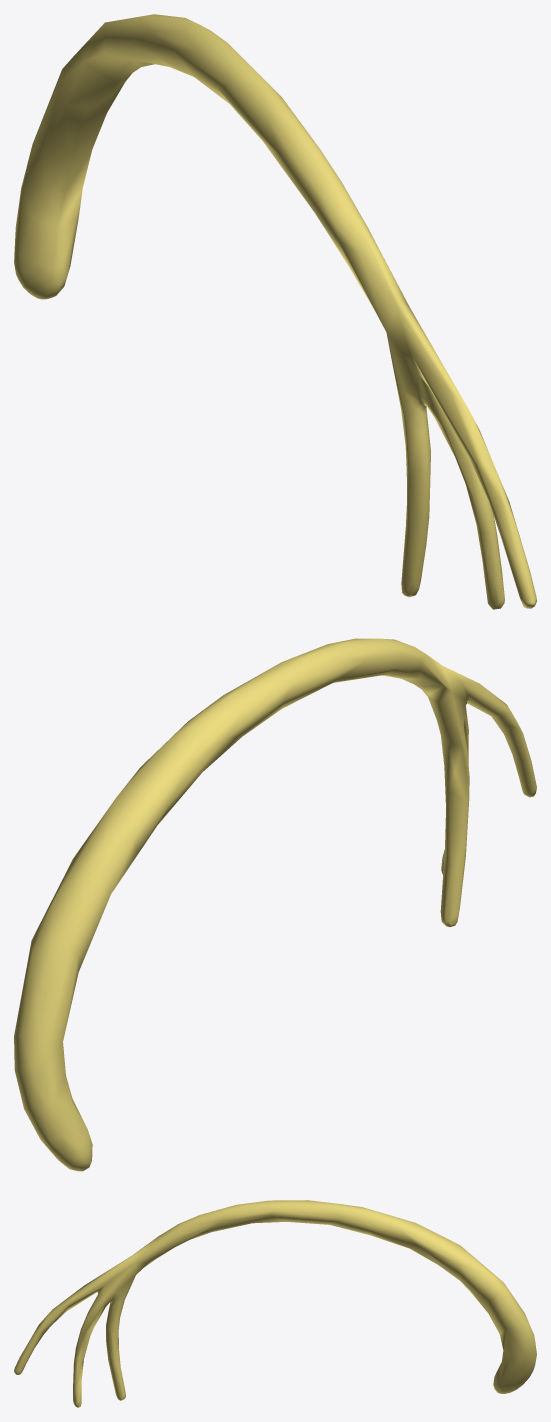
The model's file is stria-medullaris-thalami-l.glb.
3 renders of one model, top to bottom at view 1: azimuth 30°, elevation 25°; view 2: azimuth 150°, elevation 25°; view 3: azimuth 270°, elevation 25°, orthographic. The views are drawn at different scales.
Visible parts, largest first — view 1: Stria medullaris thalami.l; view 2: Stria medullaris thalami.l; view 3: Stria medullaris thalami.l.
Boxes of the visible parts, x1=… form: Stria medullaris thalami.l: x1=14, y1=14, x2=536, y2=609; Stria medullaris thalami.l: x1=14, y1=638, x2=536, y2=1171; Stria medullaris thalami.l: x1=14, y1=1200, x2=536, y2=1407.
Size of the model in its own units: 0.00369 by 0.0151 by 0.0357.
